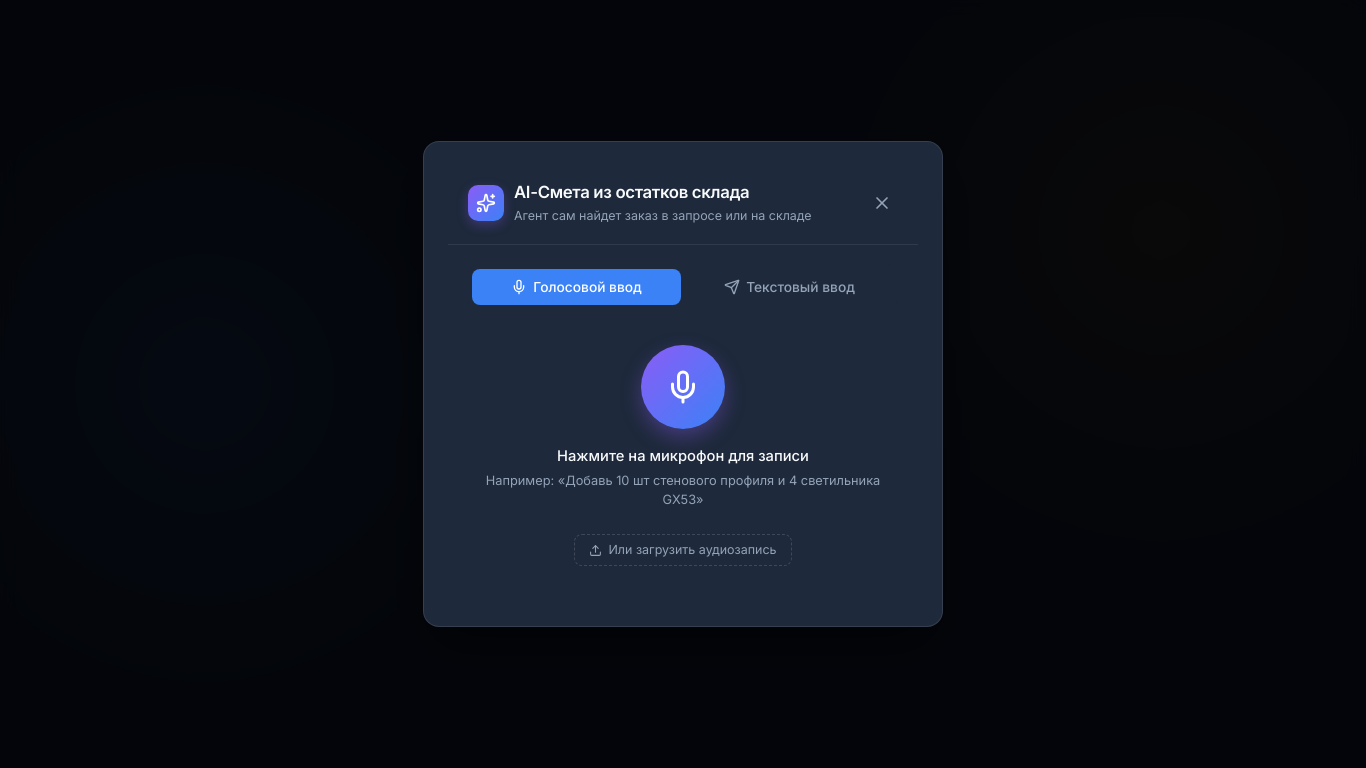
Test: AiEstimateModal › switches between voice and text tabs
The image size is (1366, 768).
Expected: the text "Нажмите на микрофон для записи" is shown, [557,447,809,465]
Note: Switch to TEXT tab
Step 1. Click the button "Текстовый ввод" → click(790, 287), box [685,268,894,305]
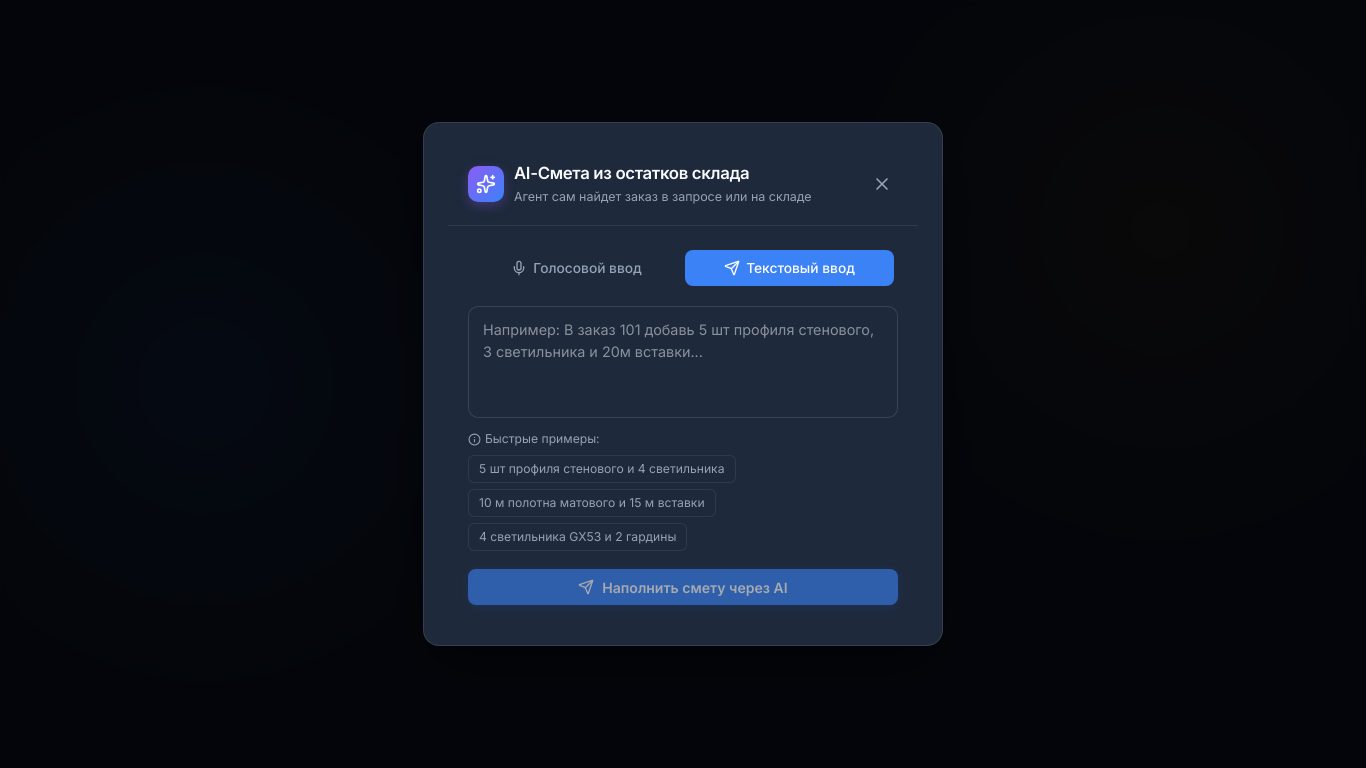
Result: the text box with placeholder "В заказ 101 добавь" is shown at [468,306,898,418]
Result: the button "Наполнить смету через AI" is shown at [468,569,898,605]
